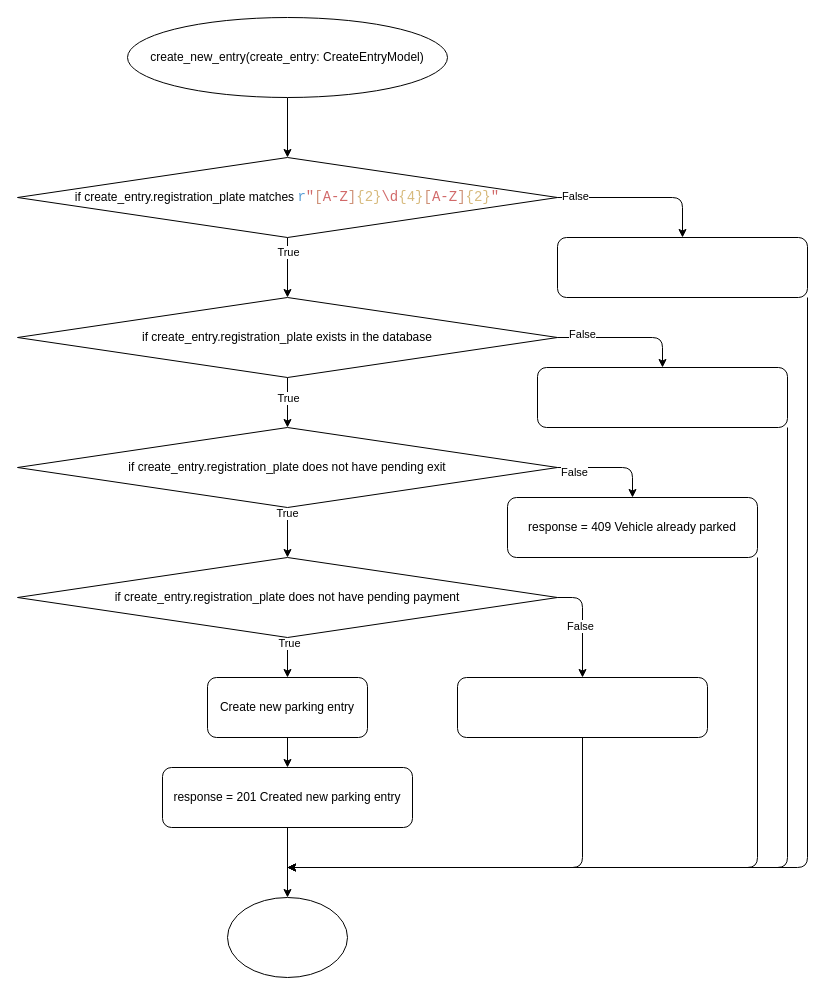
This 833x995 diagram has some shape labels left out. The centre of each missing label's shape, as x and y in pixels:
"response = 400 Registration plate not registered" belongs at (x=662, y=397).
"response = 400 Registration plate not valid" belongs at (x=682, y=267).
"response = 402 Previous parking not paid" belongs at (x=582, y=707).
"return response" belongs at (x=287, y=937).
